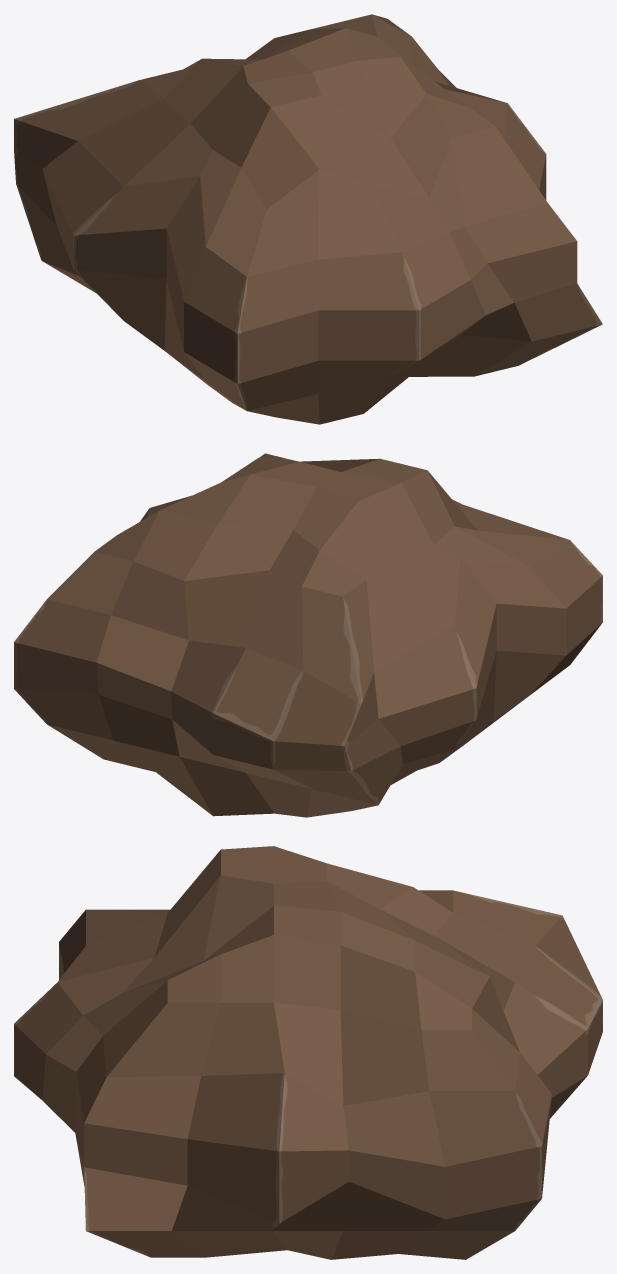
Rendered from Rock02.fbx.
3 renders of one model, top to bottom at view 1: azimuth 30°, elevation 25°; view 2: azimuth 150°, elevation 25°; view 3: azimuth 270°, elevation 25°, orthographic. The views are drawn at different scales.
Parts seen in each view (by area): view 1: pCube4; view 2: pCube4; view 3: pCube4.
Boxes of the visible parts, <box> form: pCube4: <box>14,14,602,424</box>; pCube4: <box>14,453,602,817</box>; pCube4: <box>14,846,602,1259</box>.
Bounding box in the file's own units: 6.01 × 4.55 × 6.86.
